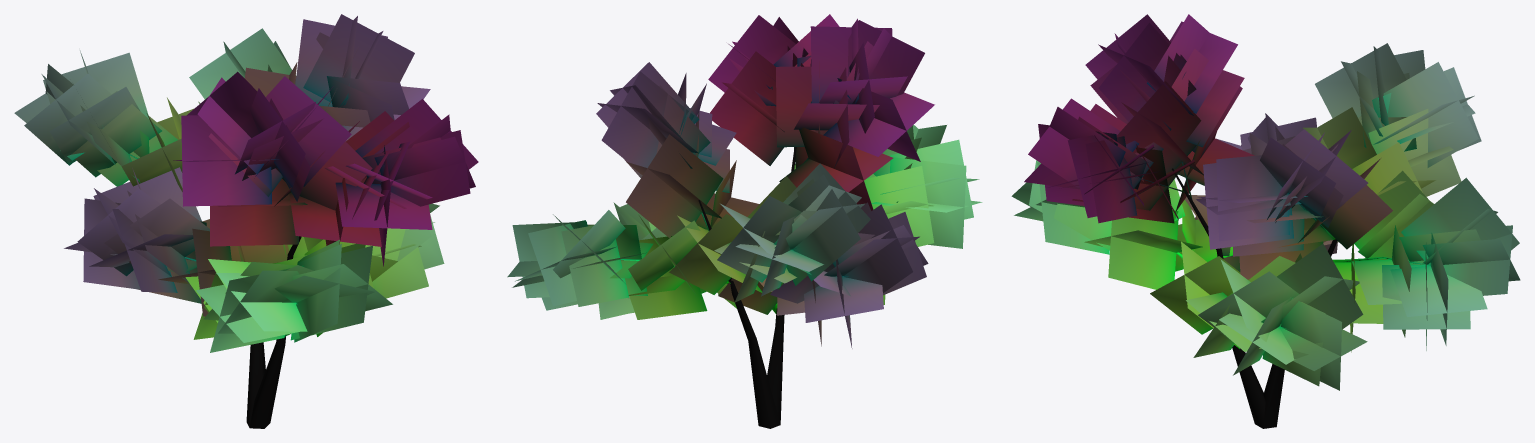
The model's file is URP_P3_Tree_4_LOD_3.fbx.
3 renders of one model, left to right at view 1: azimuth 30°, elevation 25°; view 2: azimuth 150°, elevation 25°; view 3: azimuth 270°, elevation 25°, orthographic. The views are drawn at different scales.
Parts seen in each view (by area): view 1: Tree_4_LOD_3; view 2: Tree_4_LOD_3; view 3: Tree_4_LOD_3.
Boxes of the visible parts, x1,y1,x2,y2 form: Tree_4_LOD_3: (14,14,478,428); Tree_4_LOD_3: (507,14,982,428); Tree_4_LOD_3: (1011,14,1520,428).
Bounding box in the file's own units: 511 × 548 × 657.
